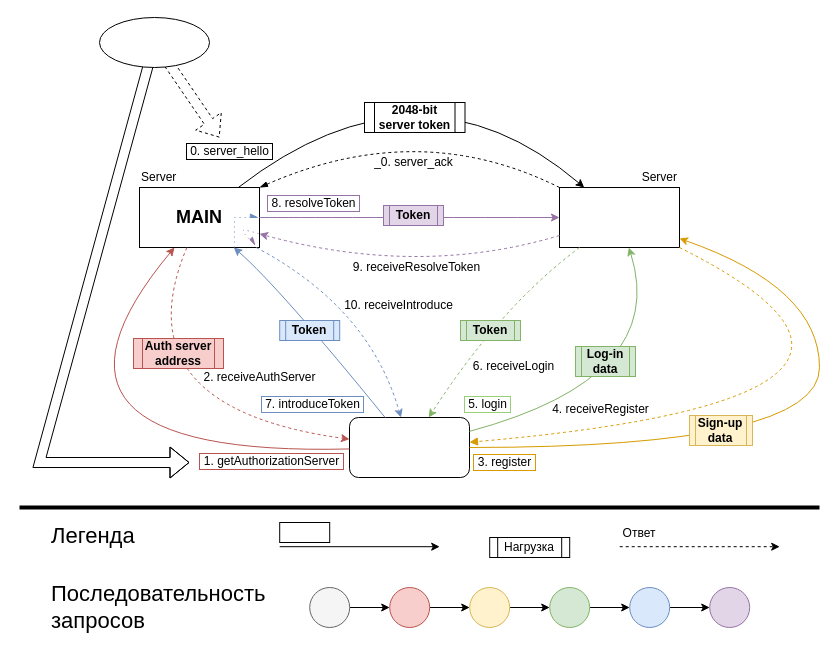
The diagram is 839 pixels wide and 651 high, and some of its shapes have lost their labels. Each missing label, with the centre of its shape:
AuthCentral: the point at 619,217
Client: the point at 409,447
Запрос: the point at 304,532
Начало: the point at 154,42
